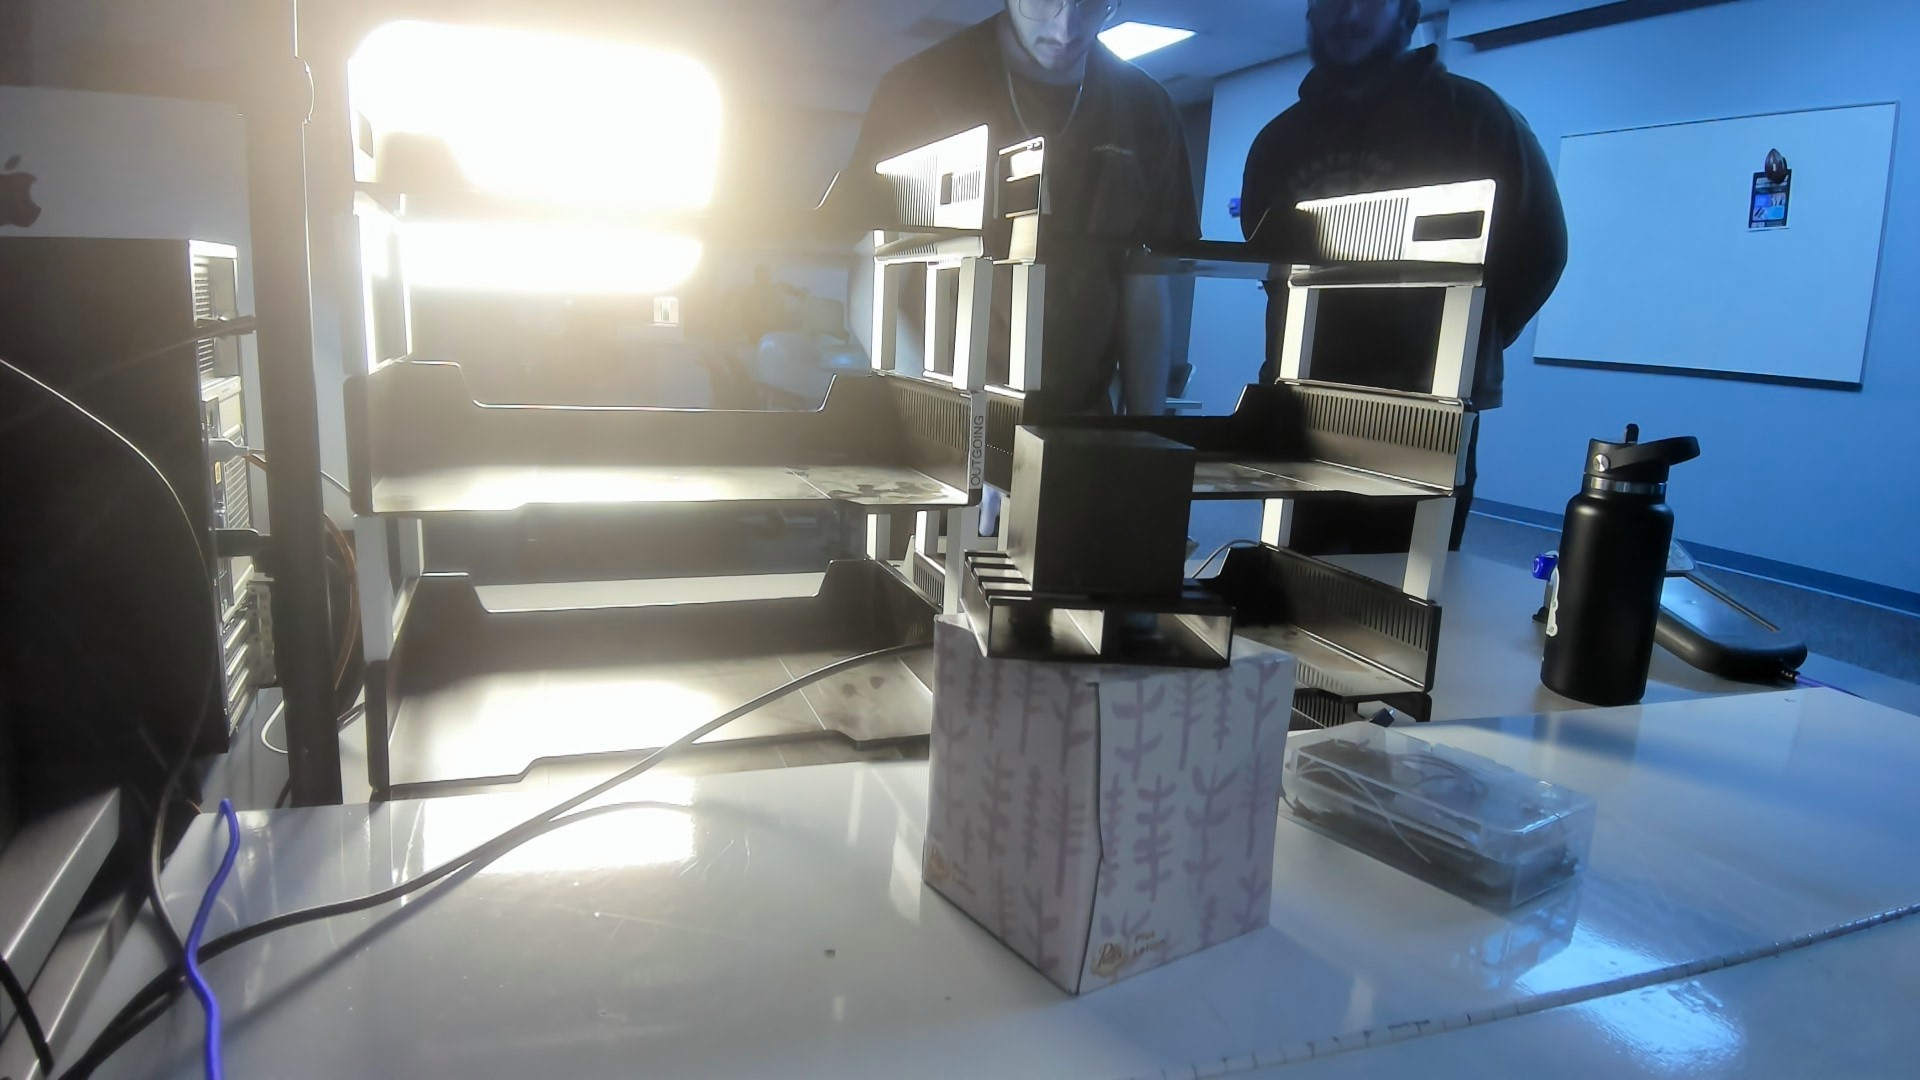black pallet: (956, 415, 1247, 698)
